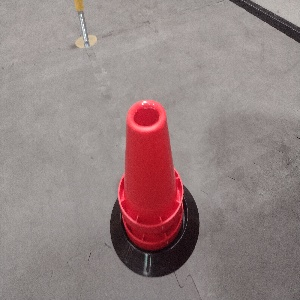Red_2: (115, 99, 184, 250)
